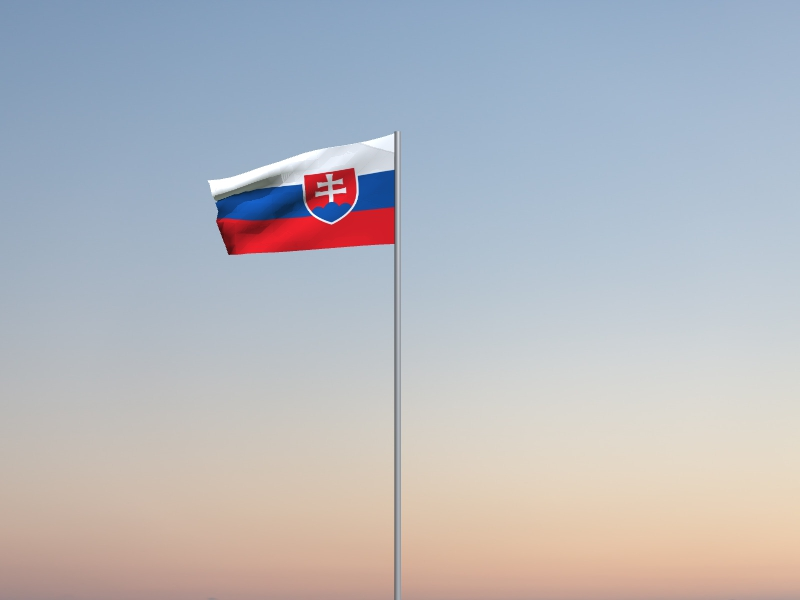sk: (207, 134, 395, 257)
